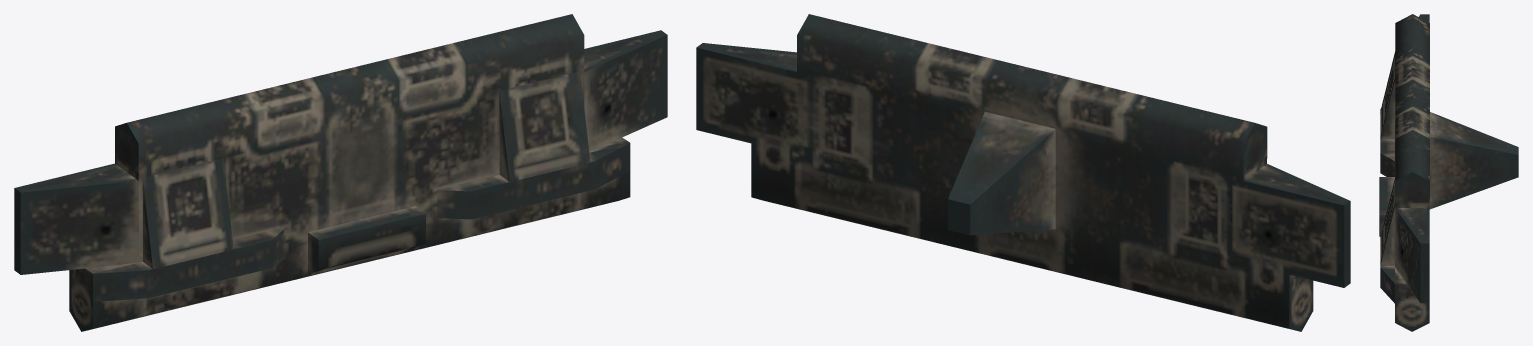
3 renders of one model, left to right at view 1: azimuth 30°, elevation 25°; view 2: azimuth 150°, elevation 25°; view 3: azimuth 270°, elevation 25°, orthographic. The views are drawn at different scales.
Visible parts, largest first — view 1: set_0_group_0; view 2: set_0_group_0; view 3: set_0_group_0.
Part boxes in pixels (x1,y1,x2,y2): set_0_group_0: [14, 14, 667, 331]; set_0_group_0: [696, 14, 1350, 331]; set_0_group_0: [1379, 14, 1518, 331].
Bounding box in the file's own units: 0.7199 × 0.2104 × 0.1846.
Materials: 1 (1 with a texture image).
